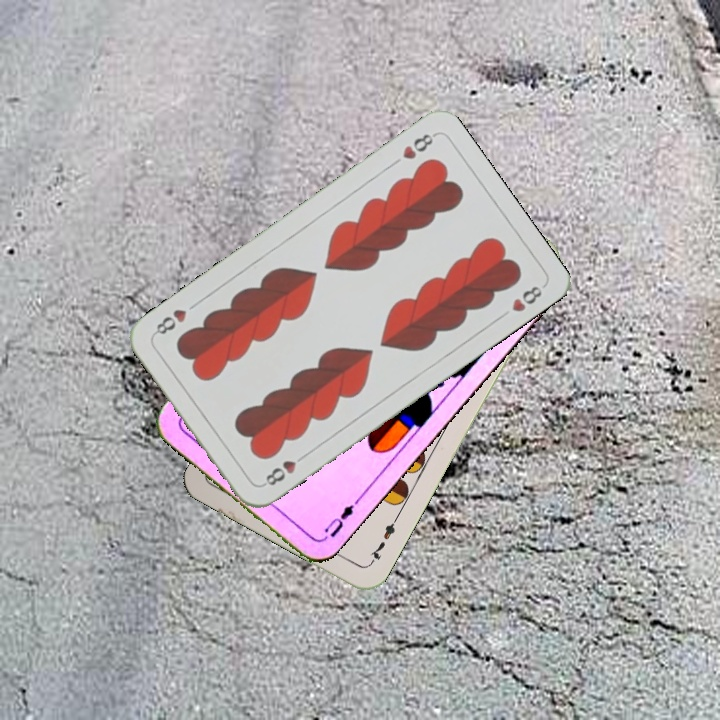E7: (365, 513, 401, 567)
EU: (320, 495, 363, 541)
H8: (258, 449, 310, 489), (398, 129, 438, 162)
